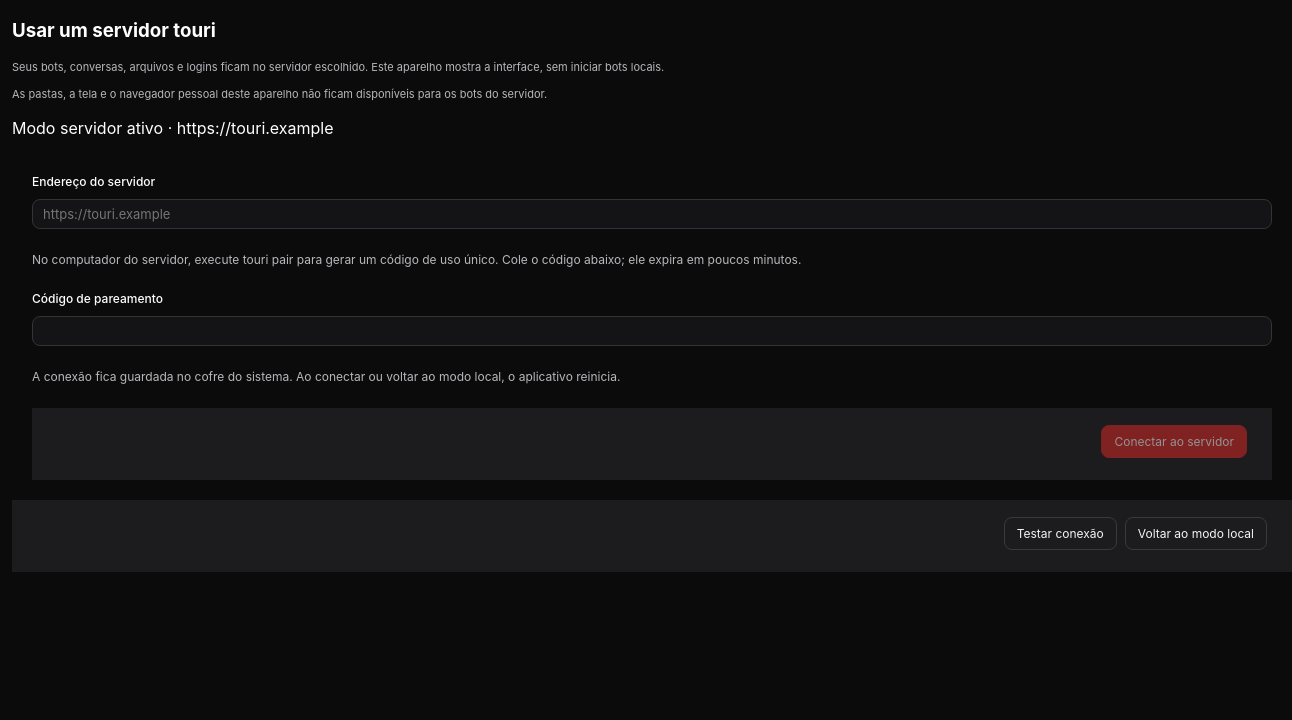
Test: tests an existing server and returns to local mode without needing its API
What coordinates should you click on to do the following:
click the button "Testar conexão"
I would click on:
 (1060, 534)
Its box is x1=1004 y1=517 x2=1117 y2=550.
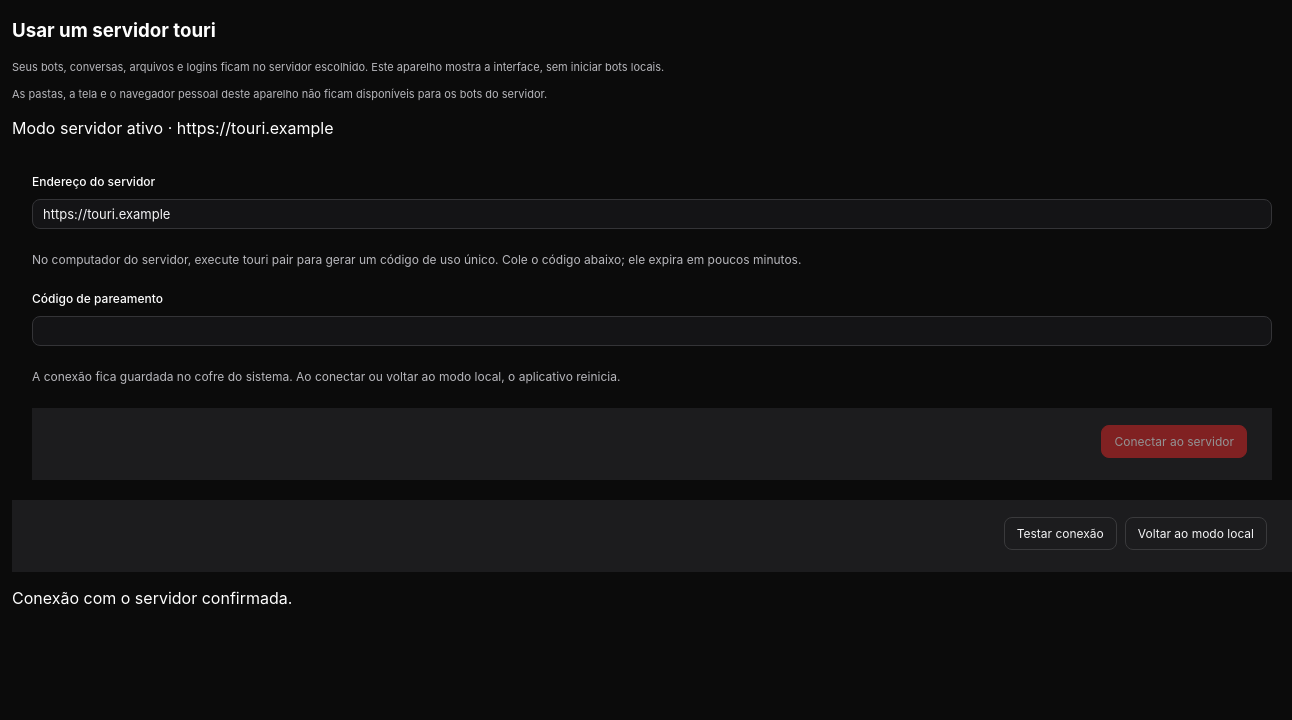
Expected: the text "Conexão com o servidor confirmada." is shown, x1=12 y1=588 x2=292 y2=608
What coordinates should you click on to do the following:
click the button "Voltar ao modo local"
I would click on:
 (1196, 534)
Its box is x1=1125 y1=517 x2=1267 y2=550.
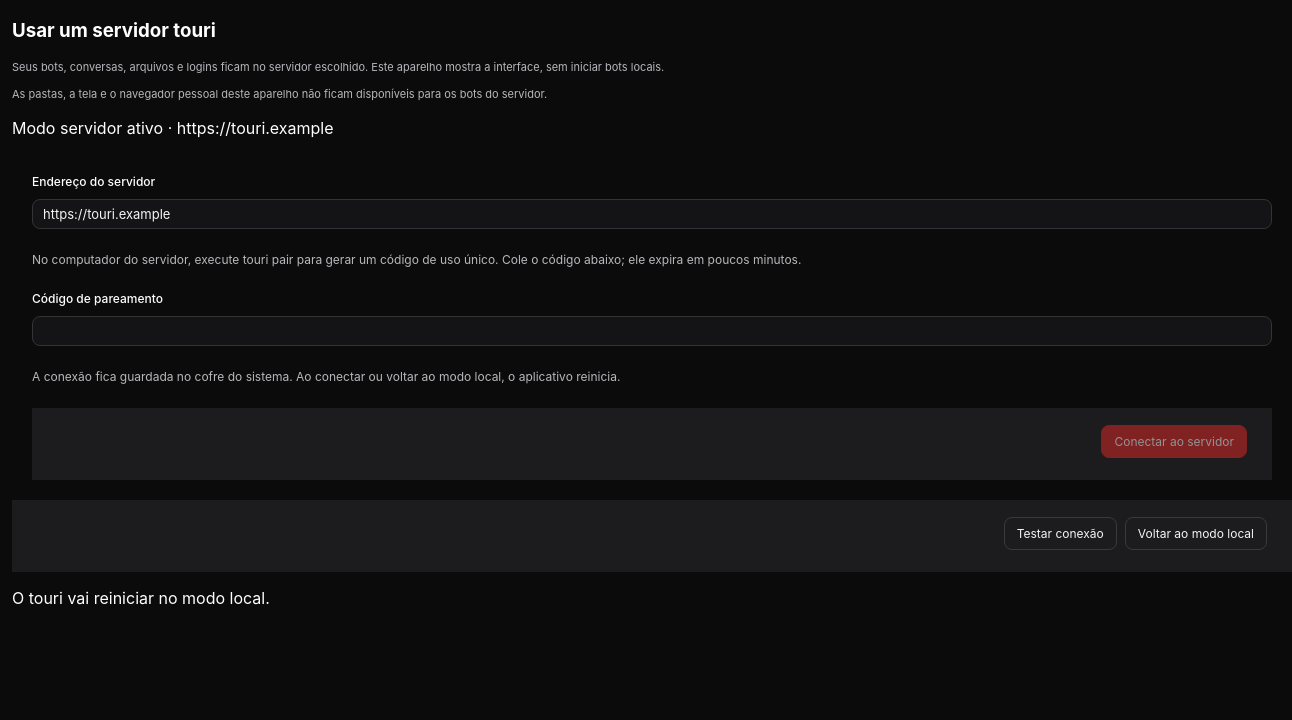
Expected: the text "O touri vai reiniciar no modo local." is shown, x1=12 y1=588 x2=270 y2=608
